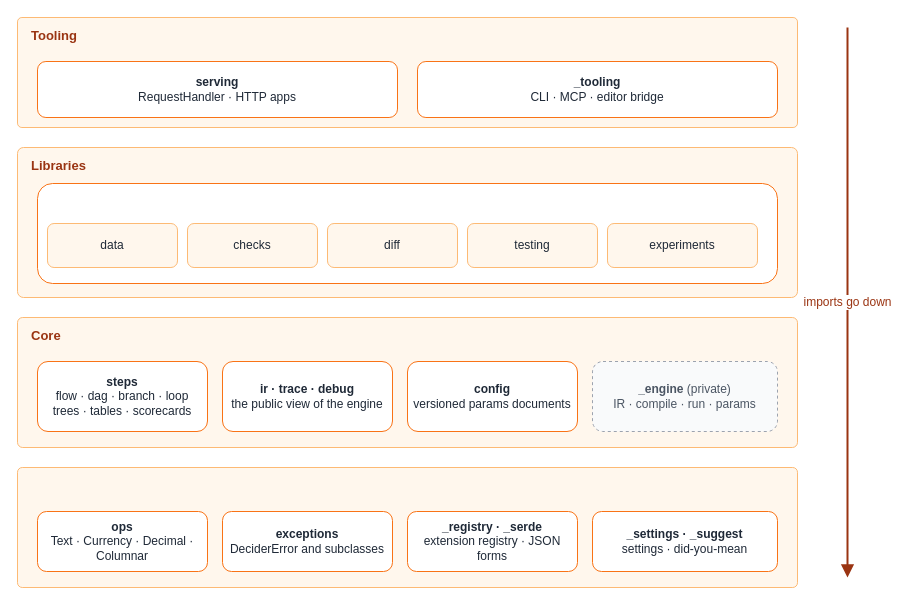
Some shapes in this 909 by 606 pixel diagram are drawn without their labels. Here are the shapes that lost their labels. From the top down, the box of each, then its label:
(36, 182, 778, 284): lab · work on a flow away from serving
(16, 466, 798, 588): Foundation
